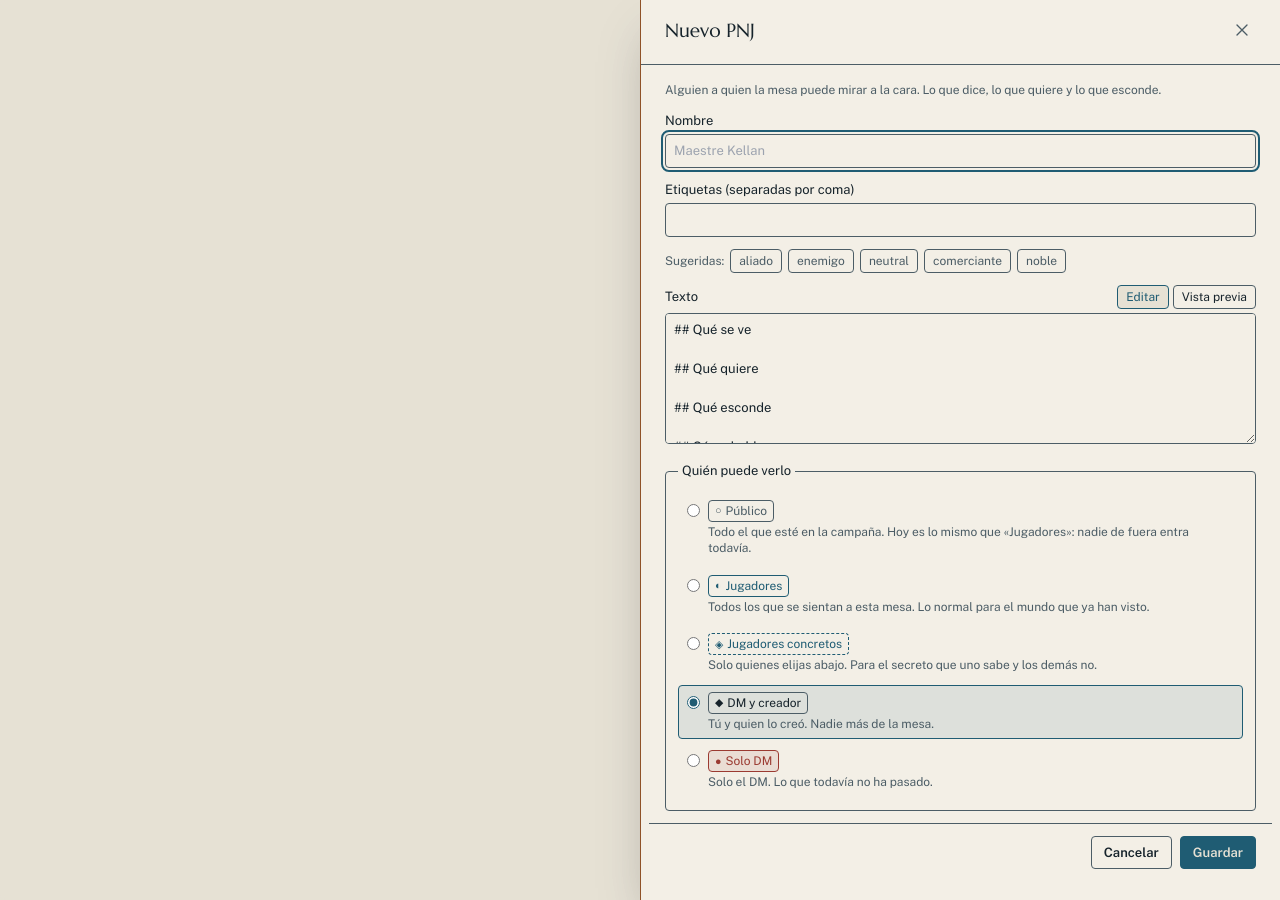
Scenario: EntityEditor (body) › preview renders ## as an accessible heading, not literal text
Replace the text in the text box labelled "Texto" with "## Título": (960, 378) x1=665 y1=313 x2=1256 y2=444
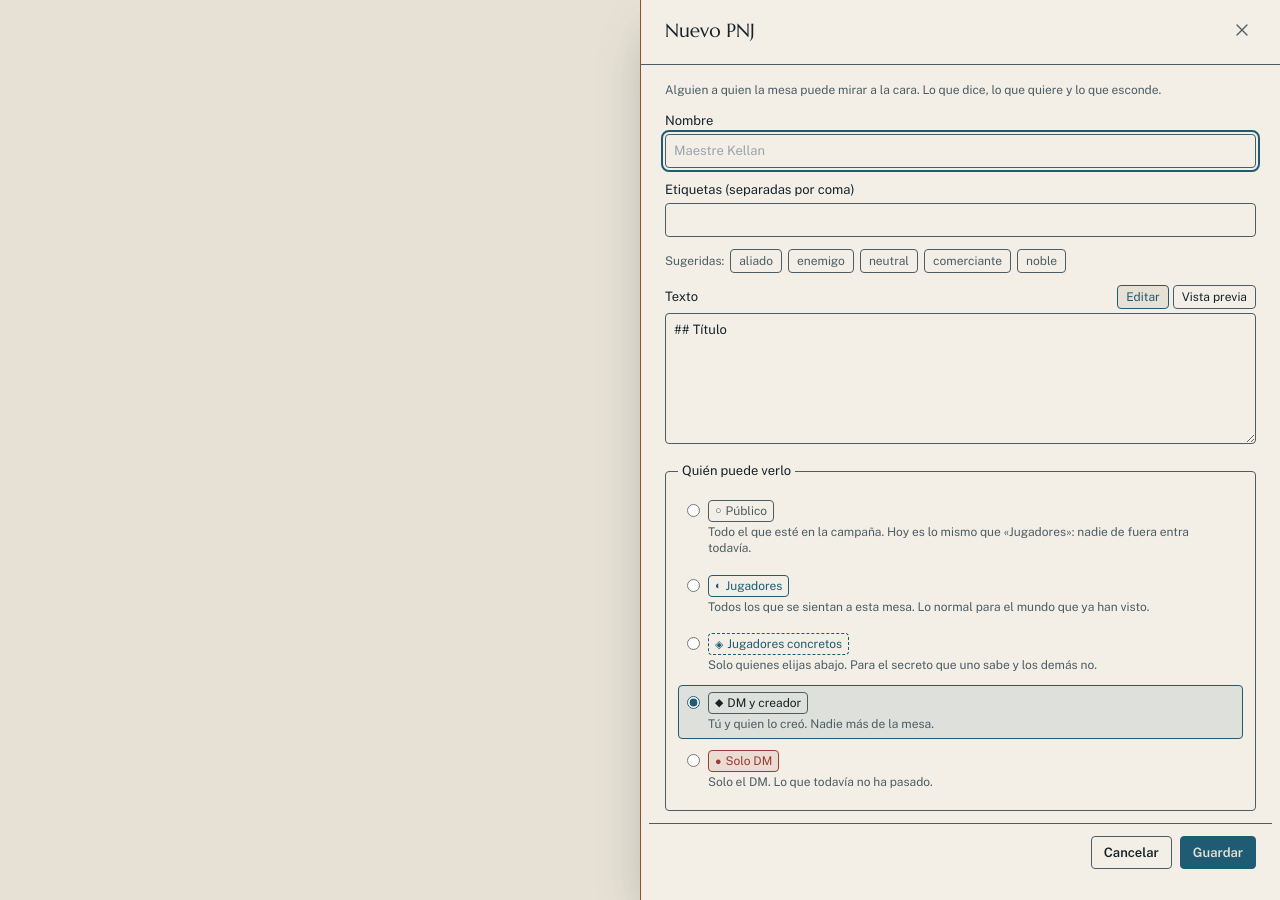
Click the button "Vista previa": (1214, 297) x1=1173 y1=285 x2=1256 y2=309
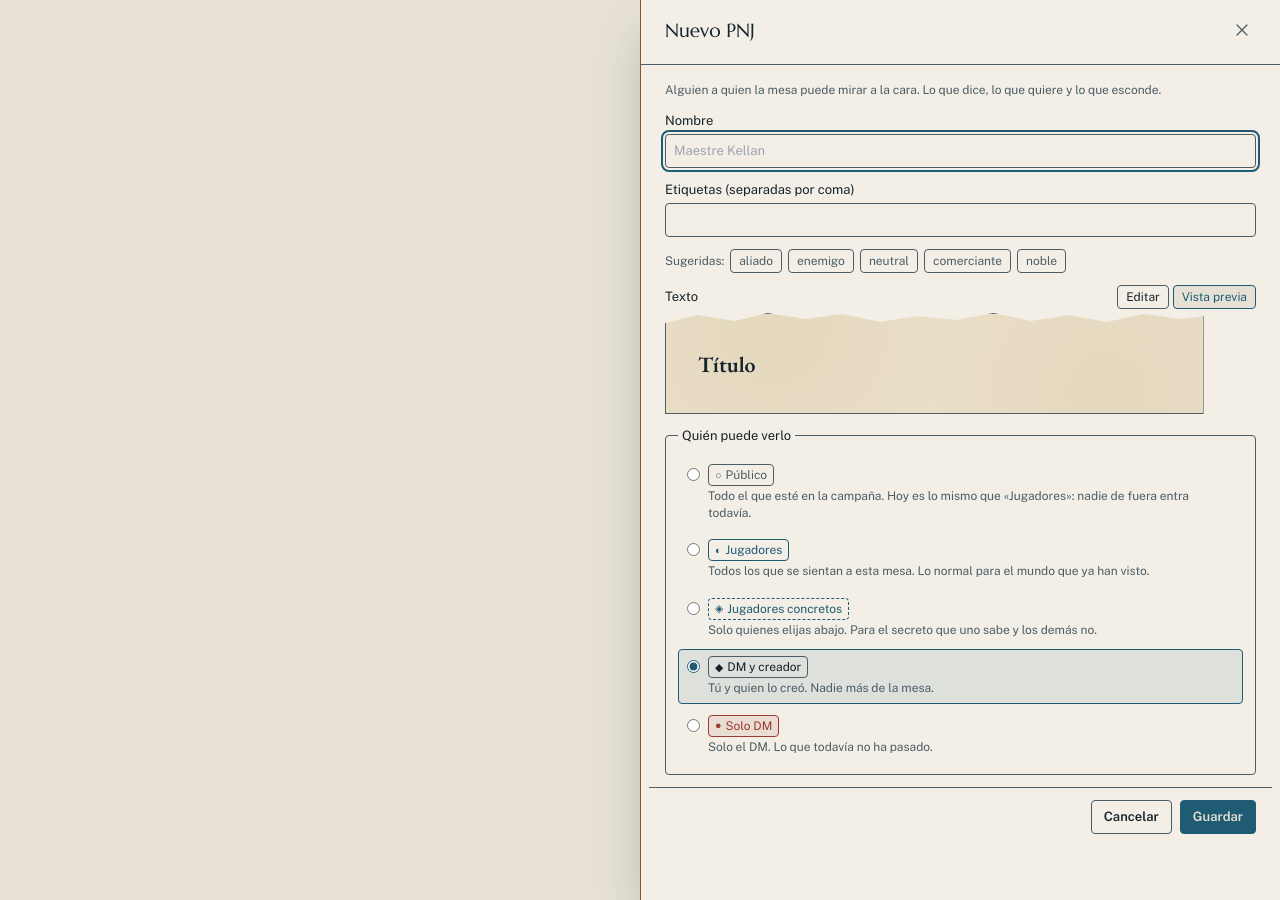
expect the text "## Título" is not shown: met
expect the heading "Título" is shown: met, box x1=698 y1=350 x2=755 y2=379
